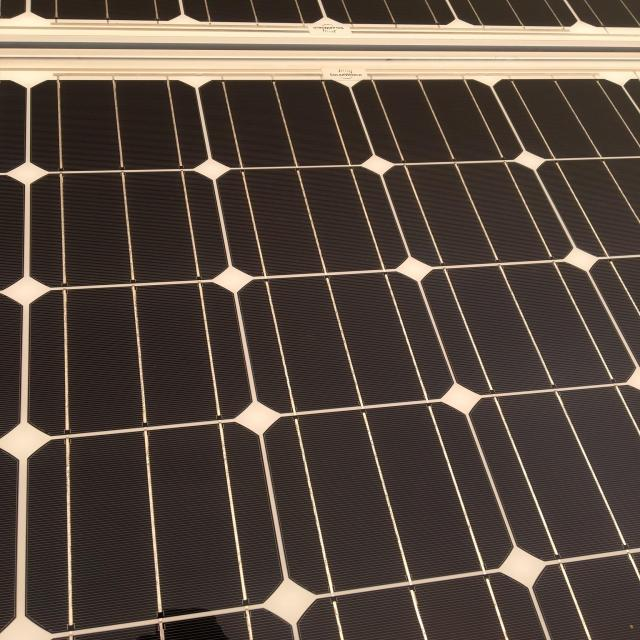clean-solar-panel: (270, 278, 358, 410)
